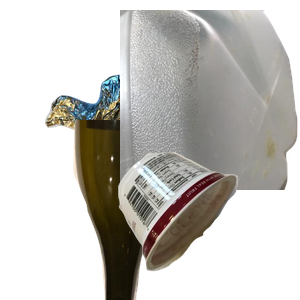glass: (71, 120, 254, 300)
metal: (42, 72, 239, 229)
plastic: (120, 10, 300, 190)
trash: (116, 149, 300, 300)
